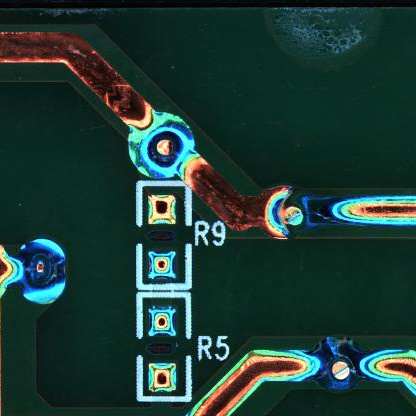spot: (127, 111, 197, 180), (19, 237, 68, 307), (258, 183, 311, 244), (313, 334, 366, 392)
